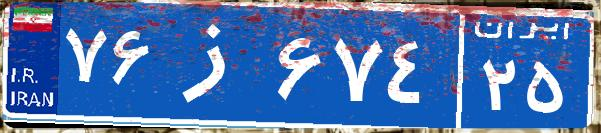2: (475, 38, 525, 113)
4: (385, 28, 445, 110)
5: (525, 38, 570, 115)
6: (273, 28, 330, 110), (110, 28, 158, 105)
7: (330, 28, 385, 110), (57, 26, 110, 107)
ز: (158, 15, 273, 115)
